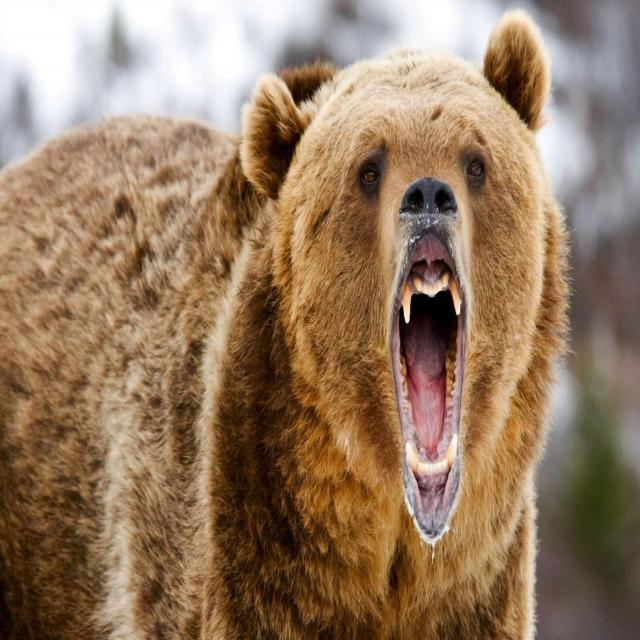Bear: (0, 13, 573, 640)
